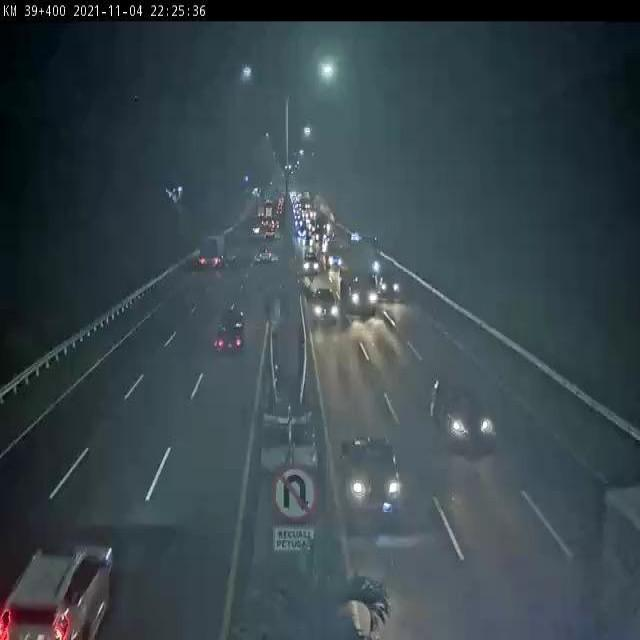car: (0, 532, 114, 640), (342, 435, 408, 528), (432, 371, 496, 456), (215, 312, 247, 349), (310, 288, 339, 324), (375, 267, 403, 301), (300, 251, 321, 276), (326, 241, 345, 267), (257, 245, 274, 264)
truck-s-: (197, 233, 227, 270)
truck-xl-: (338, 252, 379, 312)
